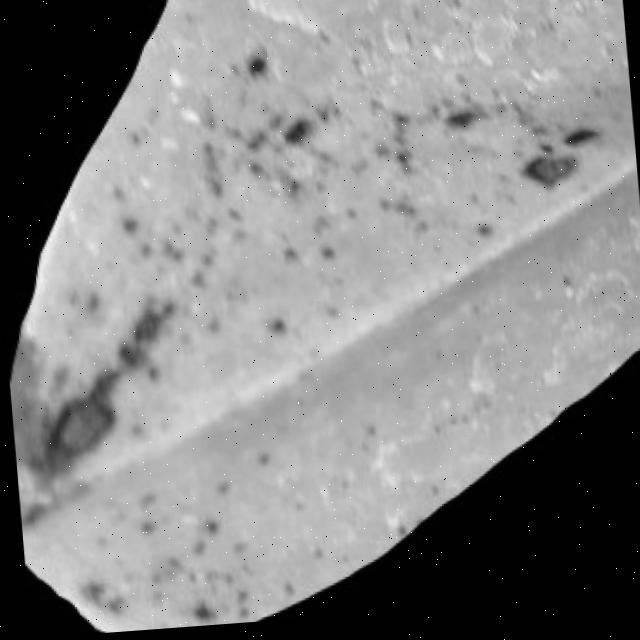mite: (512, 129, 602, 204), (38, 395, 113, 468), (519, 160, 576, 202), (553, 126, 604, 167), (558, 133, 599, 160), (438, 114, 475, 140), (186, 602, 210, 627), (243, 60, 266, 84), (115, 218, 139, 240), (134, 520, 154, 540), (197, 521, 218, 540)
spots: (0, 0, 640, 639)
